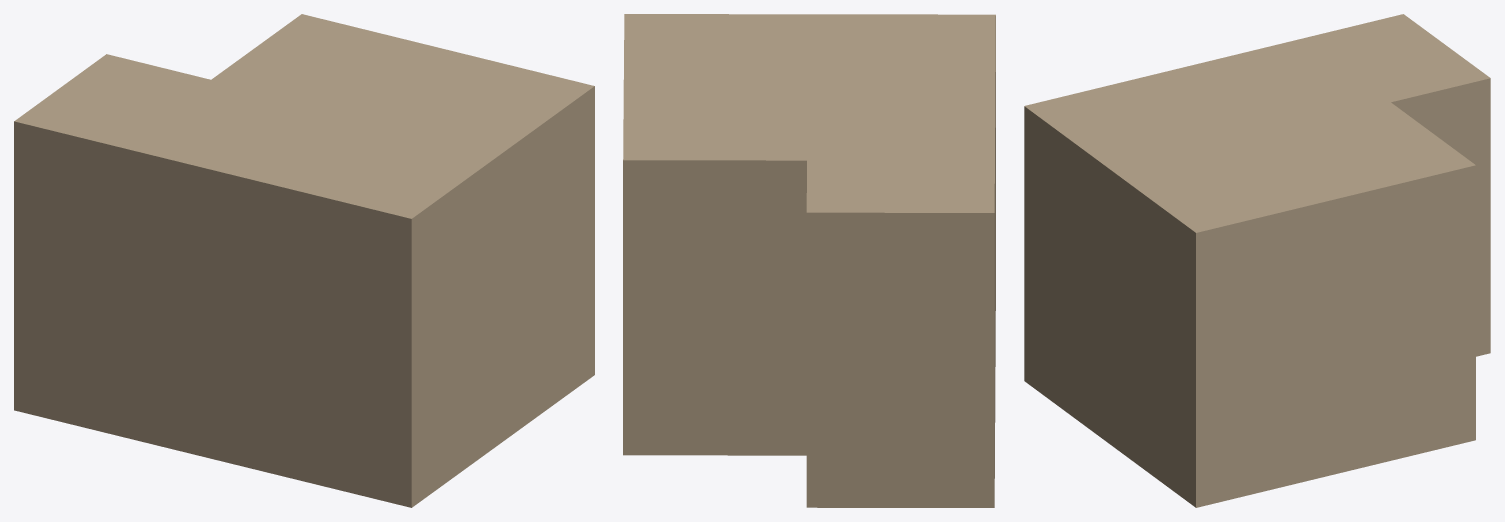
File: bld_107625328.dae
The picture shows the model from 3 angles, left to right: view 1: azimuth 30°, elevation 25°; view 2: azimuth 150°, elevation 25°; view 3: azimuth 270°, elevation 25°; orthographic projection. The views are drawn at different scales.
Parts seen in each view (by area): view 1: bld_107625328; view 2: bld_107625328; view 3: bld_107625328.
Boxes of the visible parts, x1,y1,x2,y2 form: bld_107625328: (14, 14, 594, 507); bld_107625328: (623, 14, 995, 507); bld_107625328: (1024, 14, 1490, 507).
Bounding box in the file's own units: 13.66 × 12.3 × 8.
